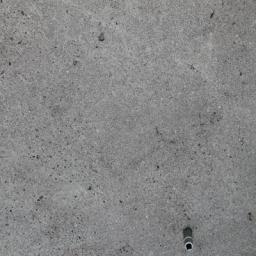FOD: (179, 225, 200, 256)
